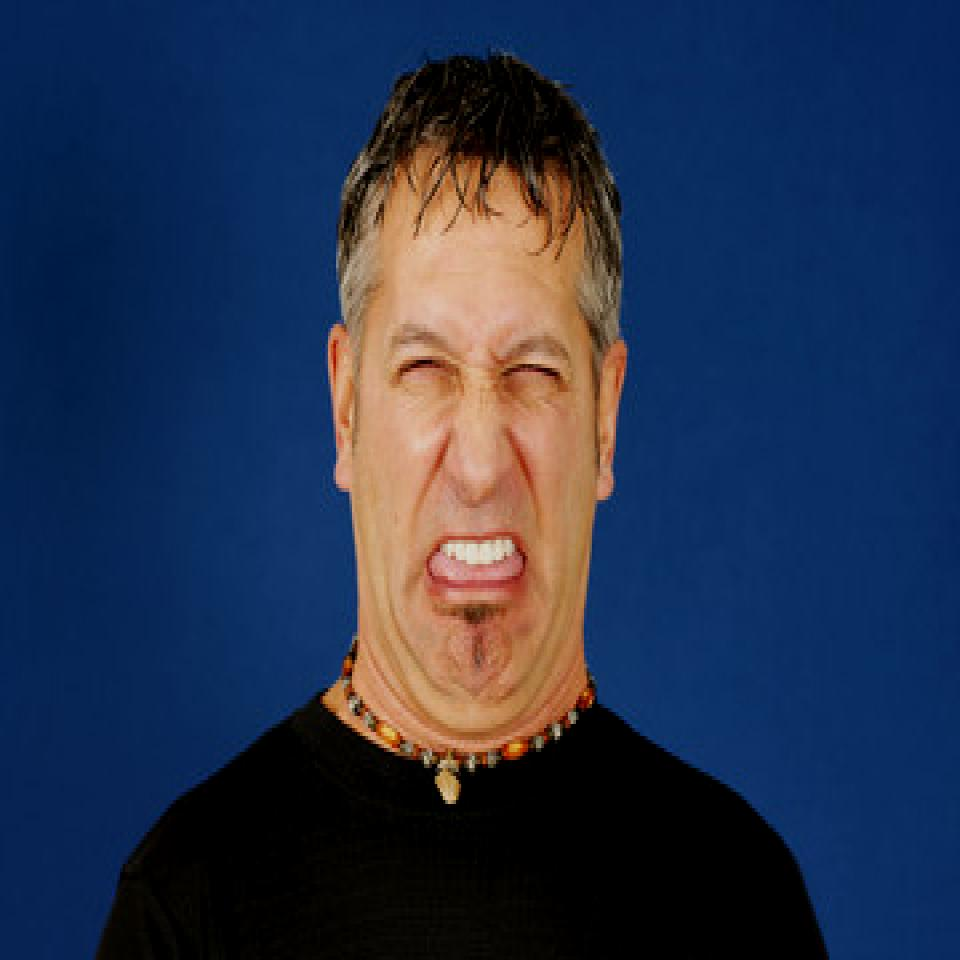Disgust: (356, 167, 602, 714)
